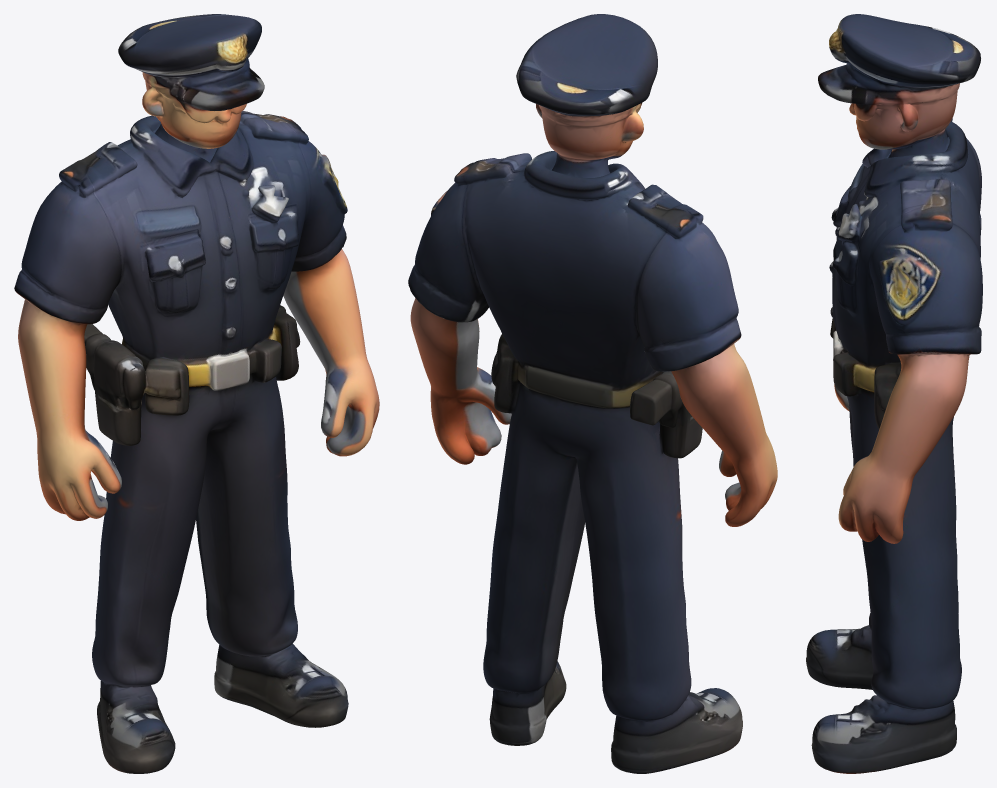
Rendered from police-officer.glb.
3 renders of one model, left to right at view 1: azimuth 30°, elevation 25°; view 2: azimuth 150°, elevation 25°; view 3: azimuth 270°, elevation 25°, orthographic.
Visible parts, largest first — view 1: tripo_node_17afbd43-5599-44cc-bf85-06e71f1fbd62; view 2: tripo_node_17afbd43-5599-44cc-bf85-06e71f1fbd62; view 3: tripo_node_17afbd43-5599-44cc-bf85-06e71f1fbd62.
Part boxes in pixels (x1,y1,x2,y2): tripo_node_17afbd43-5599-44cc-bf85-06e71f1fbd62: (14, 14, 379, 773); tripo_node_17afbd43-5599-44cc-bf85-06e71f1fbd62: (408, 14, 777, 773); tripo_node_17afbd43-5599-44cc-bf85-06e71f1fbd62: (806, 14, 982, 773).
Bounding box in the file's own units: 0.4908 × 1 × 0.2298.
1 material, 1 textured.
